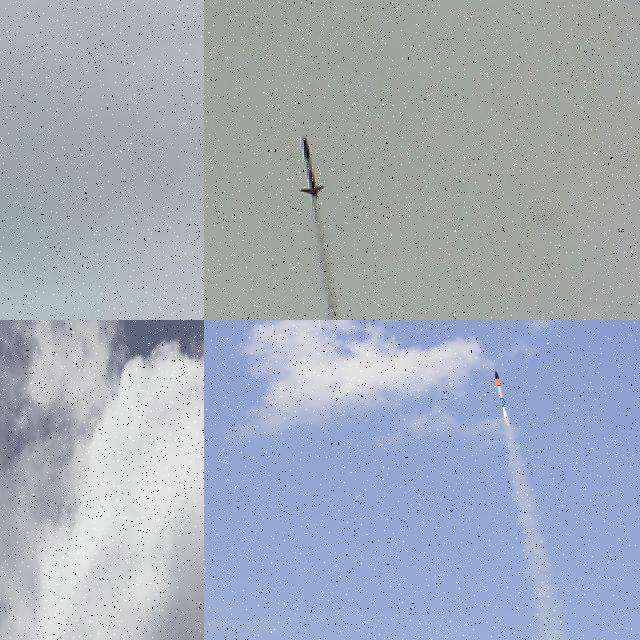Rocket: (298, 135, 326, 198), (495, 370, 510, 407), (68, 422, 71, 430)
